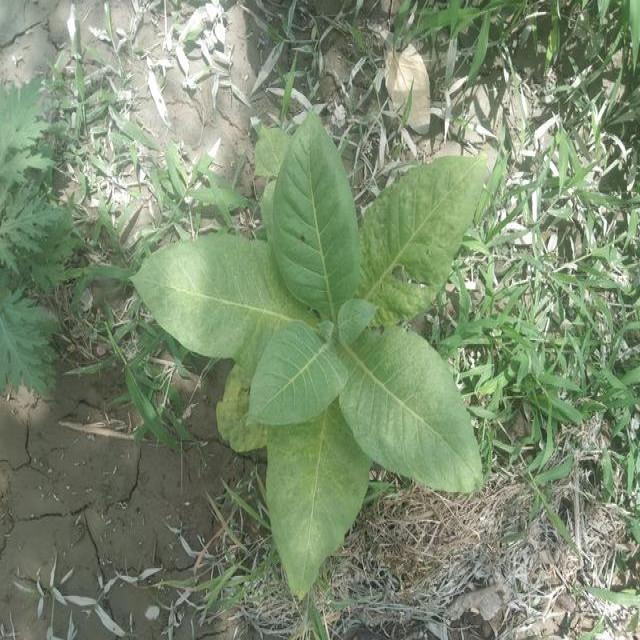crop: (130, 116, 484, 597)
